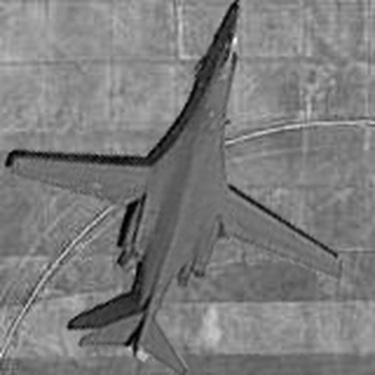airplane: (3, 5, 346, 371)
